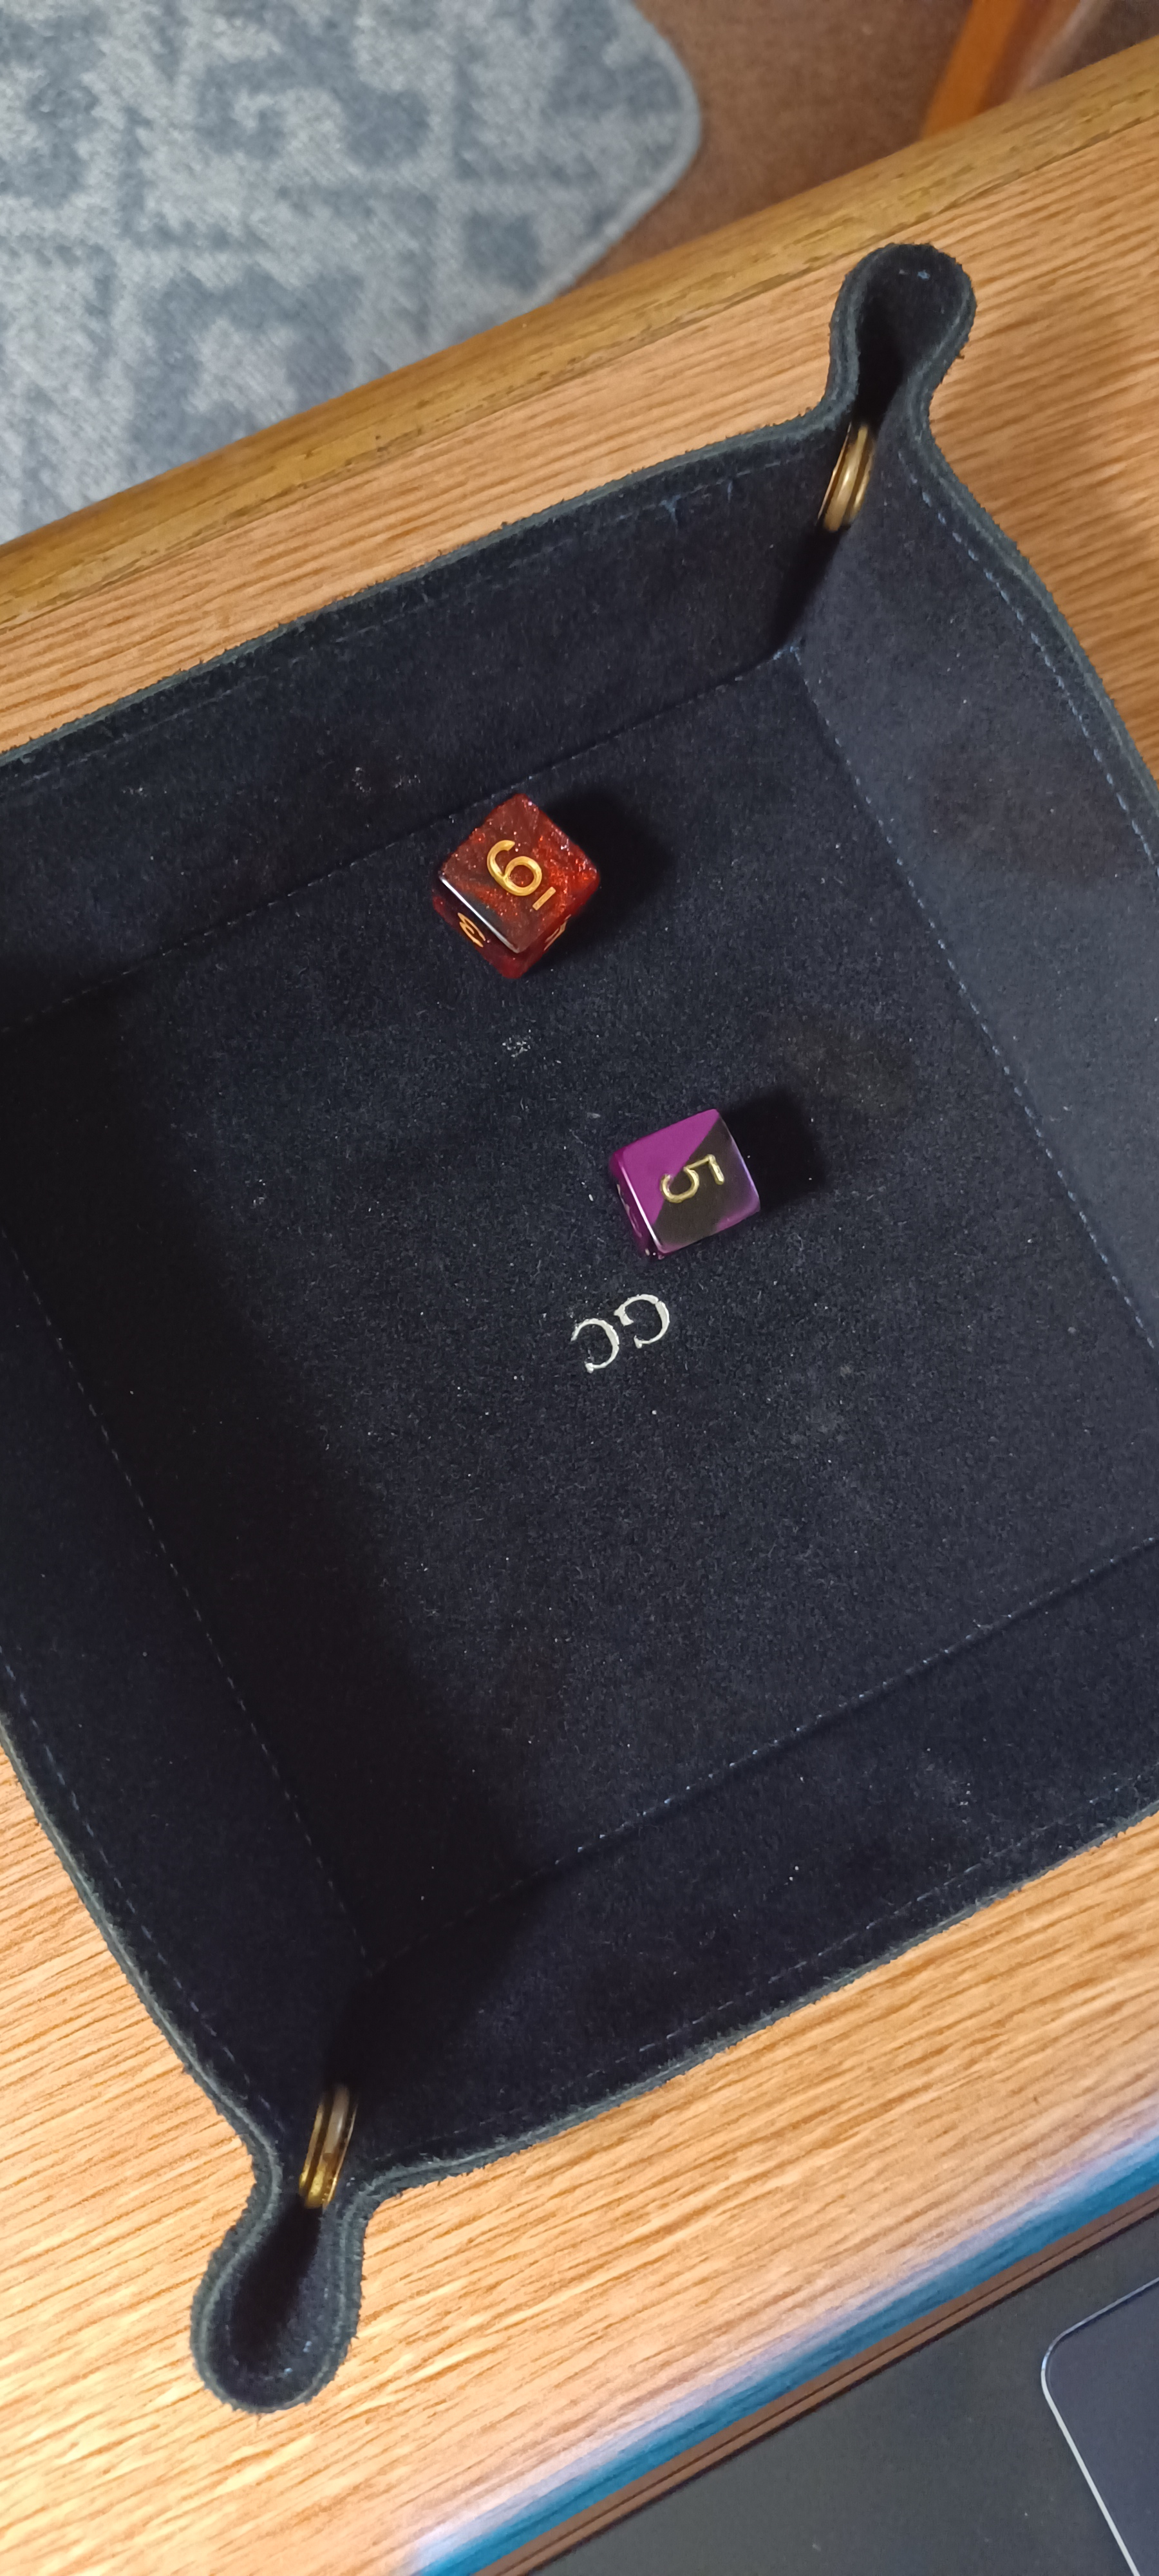five: (570, 1091, 804, 1296)
six: (404, 769, 622, 977)
